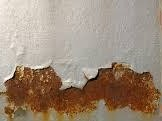Corrosion: (1, 62, 162, 121)
